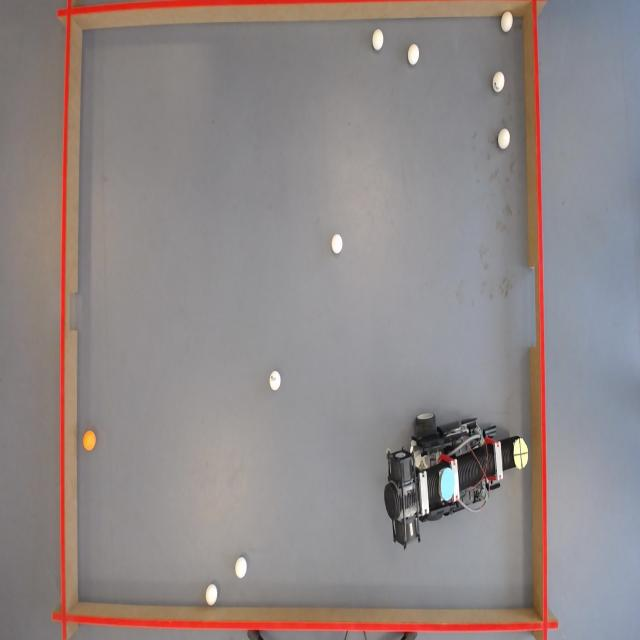orange: (82, 429, 97, 452)
robot: (382, 417, 532, 548)
robot-front: (514, 438, 530, 469)
robot-rear: (440, 468, 460, 503)
white: (205, 585, 220, 608), (408, 45, 422, 67), (497, 129, 511, 151), (235, 557, 248, 579), (373, 29, 386, 51), (500, 10, 513, 32), (493, 71, 506, 93), (332, 234, 345, 255), (270, 372, 282, 392)
